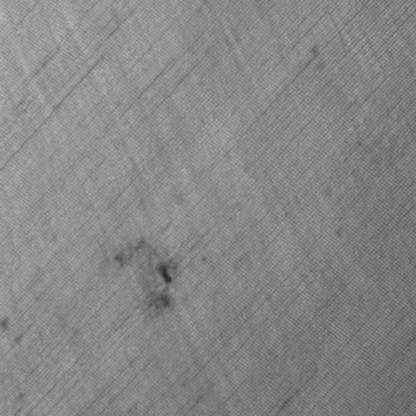objects: (115, 233, 180, 321)
